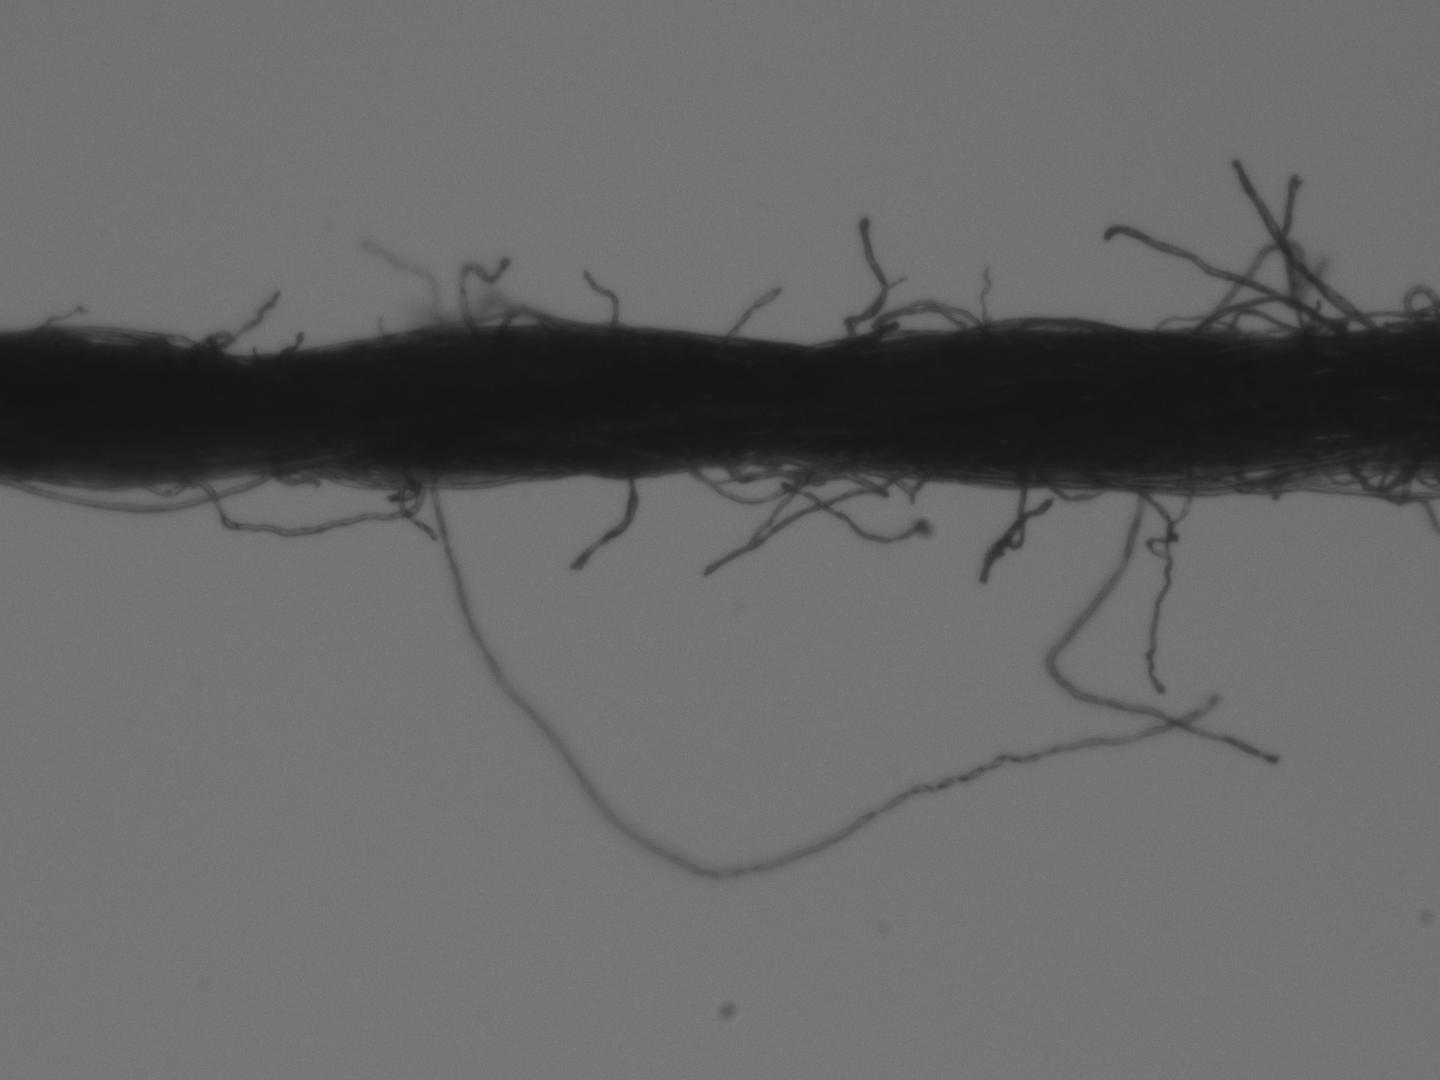loop_fiber: (197, 465, 416, 543), (6, 466, 280, 516), (1206, 241, 1307, 339), (687, 455, 842, 511), (1191, 294, 1330, 339), (875, 303, 983, 336), (1346, 448, 1425, 491), (57, 324, 193, 348), (1223, 462, 1313, 496), (1333, 306, 1425, 335), (993, 313, 1108, 331), (492, 306, 566, 330), (1047, 481, 1108, 499)
protruding_fiber: (429, 469, 1222, 883), (1043, 483, 1273, 769), (1111, 222, 1332, 332), (1234, 159, 1375, 330), (567, 474, 637, 571), (841, 222, 889, 337), (206, 292, 282, 354), (725, 281, 778, 340), (584, 267, 622, 332)
